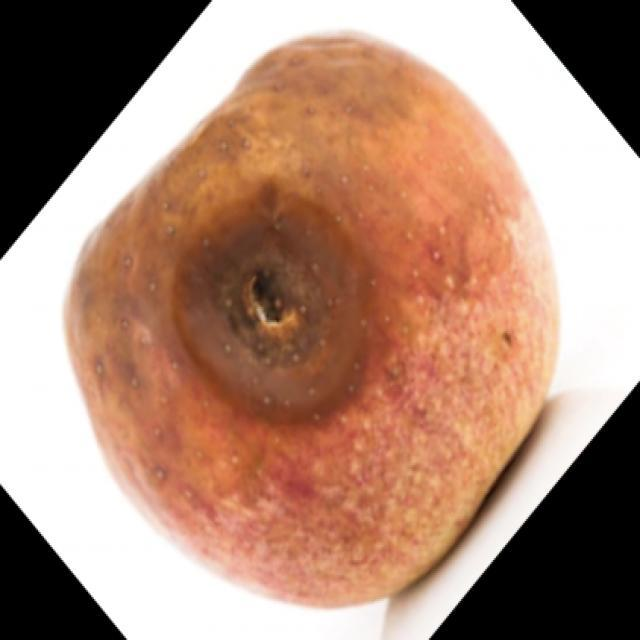Rotten: (80, 40, 572, 603)
